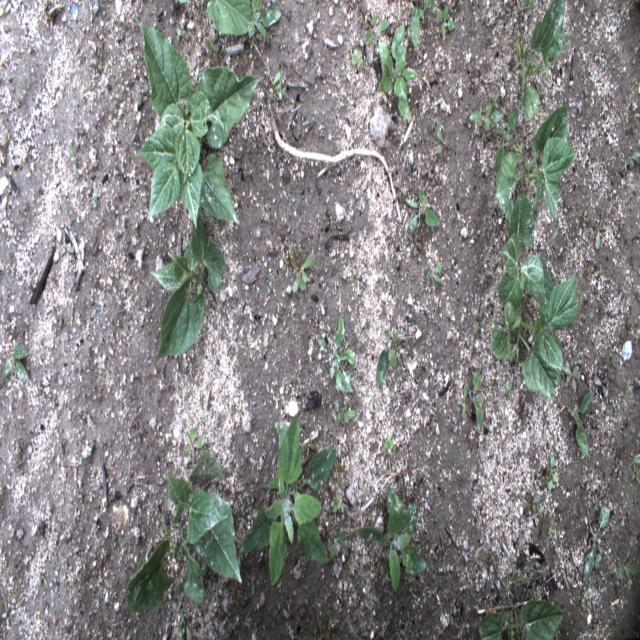crop: (134, 18, 261, 233), (124, 451, 243, 616), (488, 193, 580, 400), (148, 210, 227, 366), (492, 106, 576, 223), (514, 0, 573, 122), (477, 597, 568, 639), (206, 1, 253, 36)
weed: (242, 416, 336, 588), (358, 488, 426, 593), (377, 22, 417, 122), (313, 313, 357, 393), (582, 504, 609, 586), (403, 186, 441, 234), (375, 329, 404, 391), (566, 389, 592, 457), (494, 106, 519, 174), (282, 244, 317, 292), (247, 0, 282, 37), (410, 0, 436, 45), (2, 344, 30, 384), (468, 102, 505, 132), (469, 366, 485, 429), (309, 603, 336, 638), (330, 396, 358, 429), (364, 10, 389, 44), (184, 425, 205, 460), (436, 2, 455, 39), (614, 553, 640, 578), (265, 70, 283, 102), (592, 366, 610, 395), (457, 381, 470, 421), (564, 361, 581, 391), (176, 612, 193, 640), (328, 533, 346, 559), (407, 230, 423, 259), (521, 491, 542, 513), (203, 32, 220, 58), (424, 262, 444, 284), (594, 208, 604, 252), (468, 56, 480, 91), (473, 303, 485, 337), (437, 130, 449, 162), (59, 238, 74, 263), (332, 453, 342, 488), (547, 455, 557, 490), (392, 178, 407, 201), (383, 432, 397, 456), (419, 159, 434, 181), (0, 129, 8, 170), (135, 83, 149, 105), (487, 91, 499, 116), (329, 492, 342, 515), (304, 431, 315, 458), (70, 141, 78, 178), (624, 150, 640, 168), (62, 201, 71, 231), (509, 188, 528, 202), (601, 436, 615, 454), (541, 464, 550, 491), (350, 51, 364, 67), (630, 462, 639, 484), (350, 270, 362, 286), (487, 378, 505, 388), (37, 572, 48, 588), (580, 211, 592, 225), (94, 186, 101, 209), (572, 354, 583, 368), (505, 381, 513, 400), (175, 25, 183, 43), (273, 421, 284, 434), (266, 278, 273, 297), (422, 176, 429, 194), (93, 60, 103, 71), (281, 376, 286, 394), (632, 452, 639, 464), (612, 402, 616, 413)
